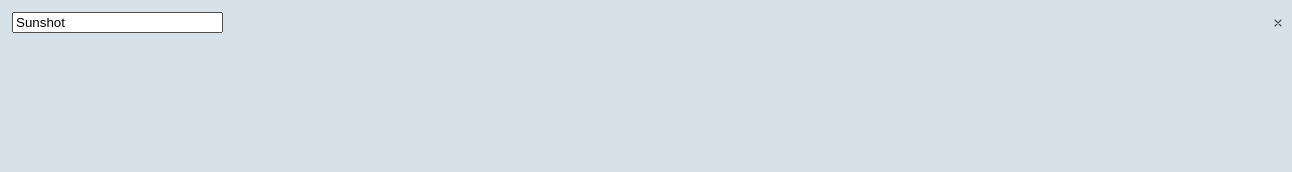
Test case: ClearSearchInput keyboard undo › passed onKeyDown still runs and can prevent the undo shortcut
Click the button named "Clear filter" at [1278, 22], box [1268,12,1288,32]
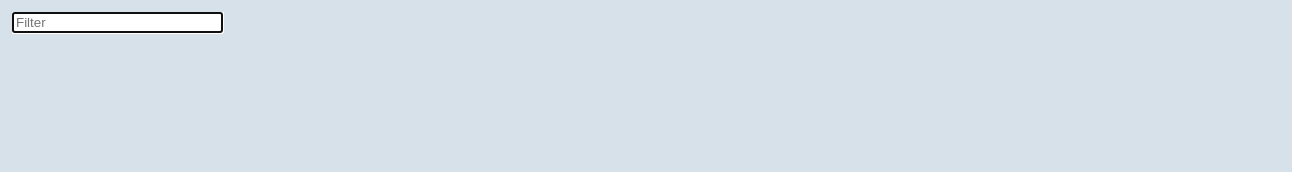
Press z in the search field with placeholder "Filter", box [12,12,223,33]
Check: the search field with placeholder "Filter" is empty, box [12,12,223,33]
